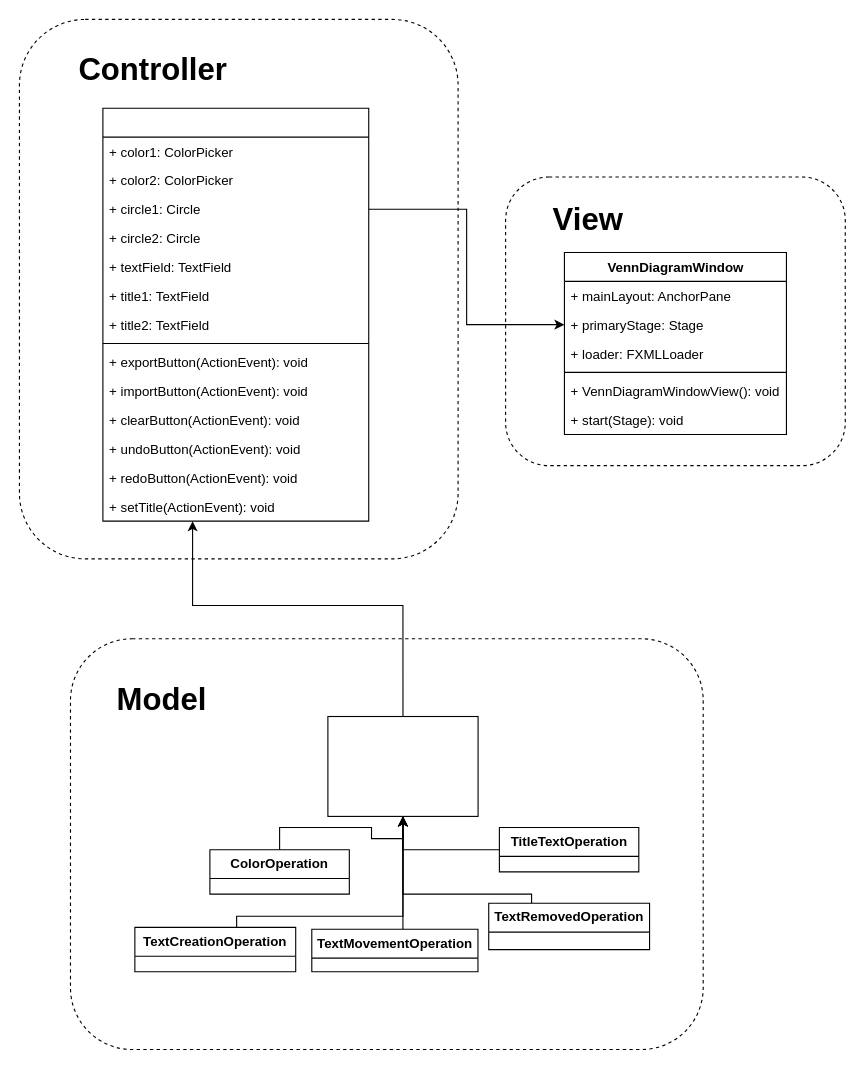
Some shapes in this 865 by 1069 pixel diagram are drawn without their labels. Here are the shapes that lost their labels. From the top down, the box of each, then its label:
(102, 107, 369, 521): VennDiagramWindowController
(327, 715, 478, 816): <<Interface>> Operation + executeUndo(): void + executeRedo(): void
